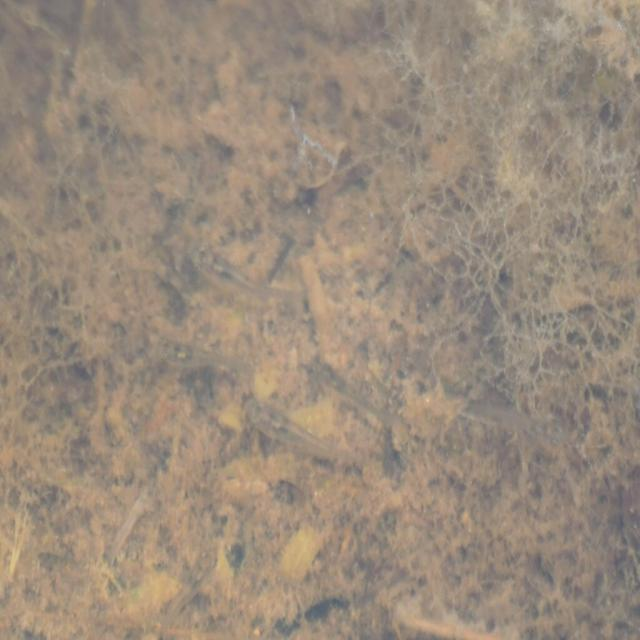Sivrisinek Baligi: (246, 395, 364, 479), (198, 239, 312, 310), (154, 331, 245, 385)
